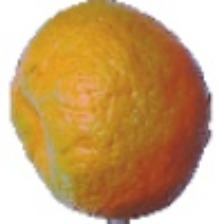tangerine: (64, 24, 203, 168)
